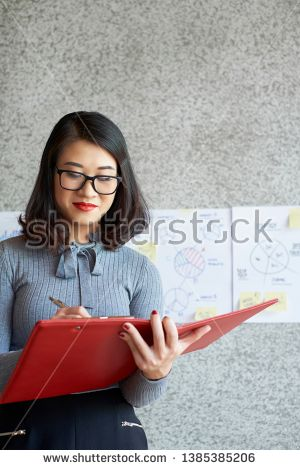red folder: (7, 296, 284, 400)
